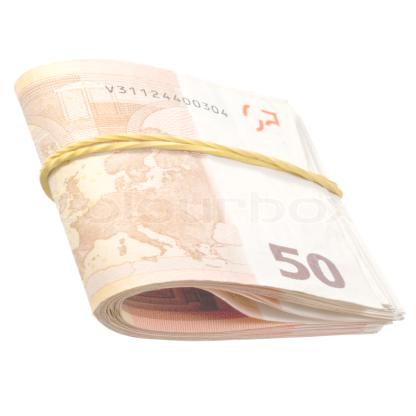euro_banknote: (16, 62, 383, 315)
